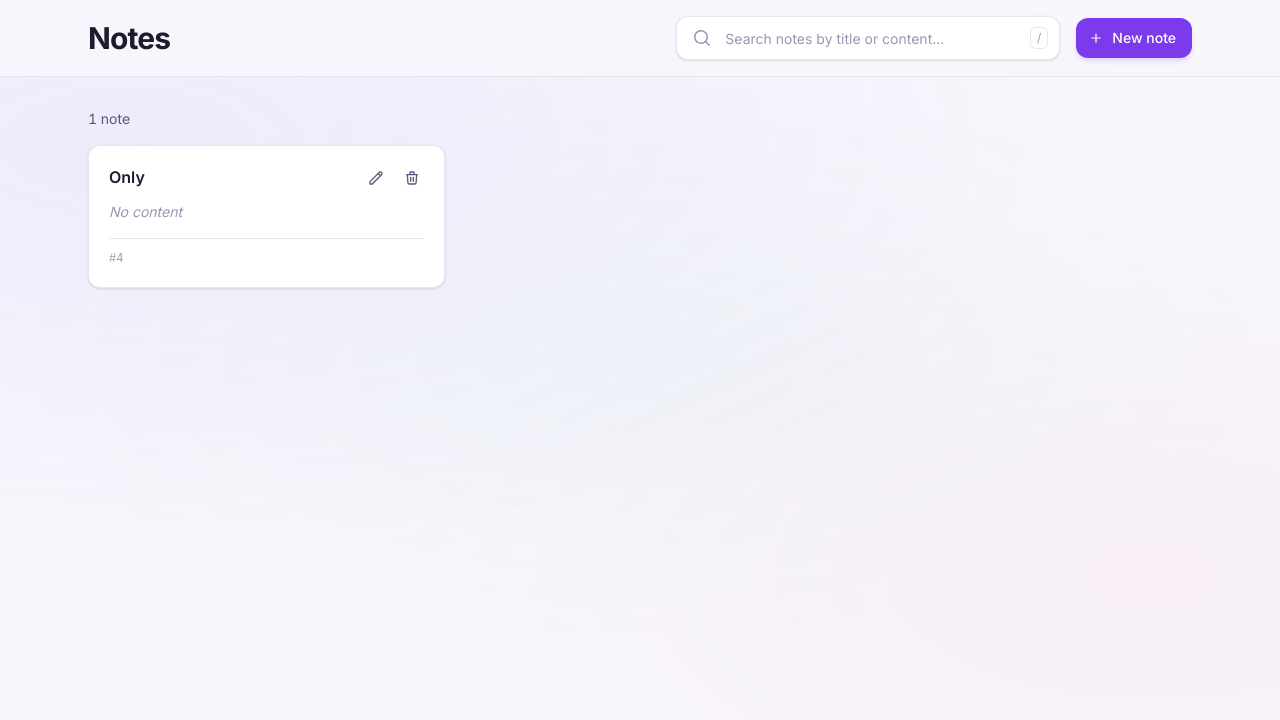
useDeleteNote › treats a 404 as success: the note is gone either way
The width and height of the screenshot is (1280, 720).
Expected: the element "Only" is shown, [88, 145, 445, 288]
Click the button named "Delete note: Only": (412, 178) [396, 162, 428, 194]
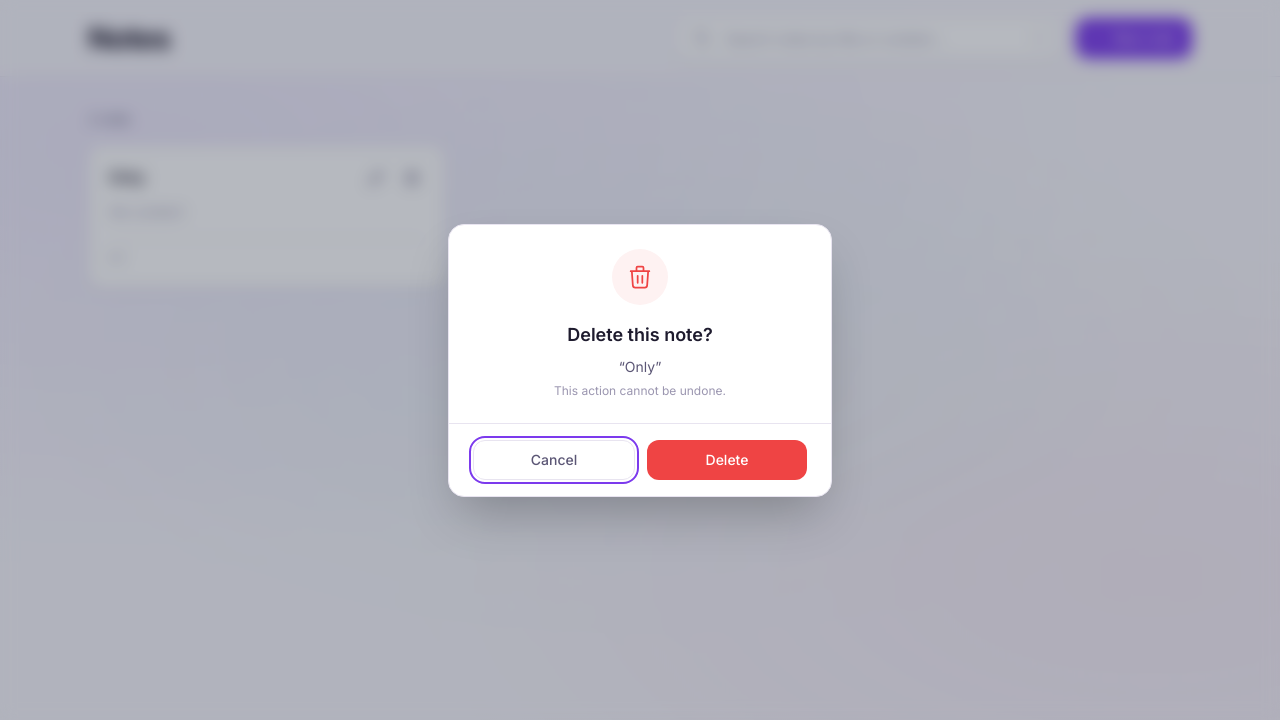
Click the button "Delete": (727, 460) [647, 440, 807, 480]
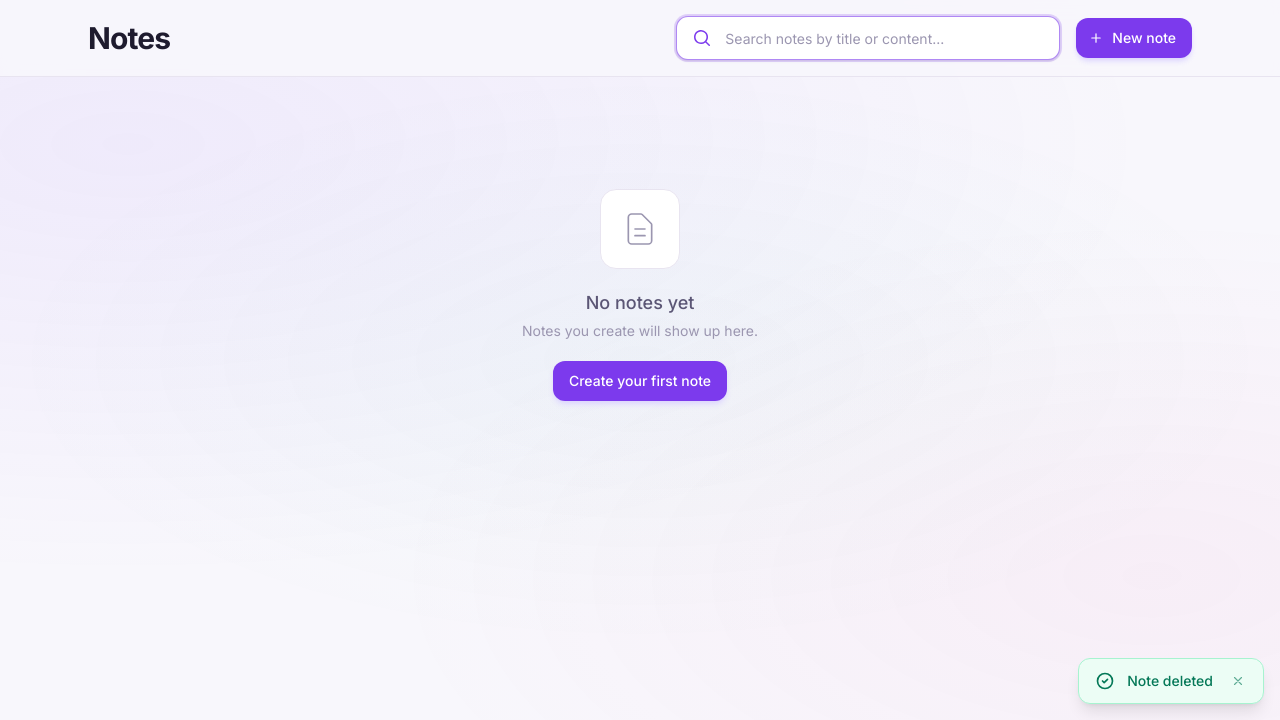
Result: the text "Note deleted" is shown at [1127, 671, 1213, 691]
